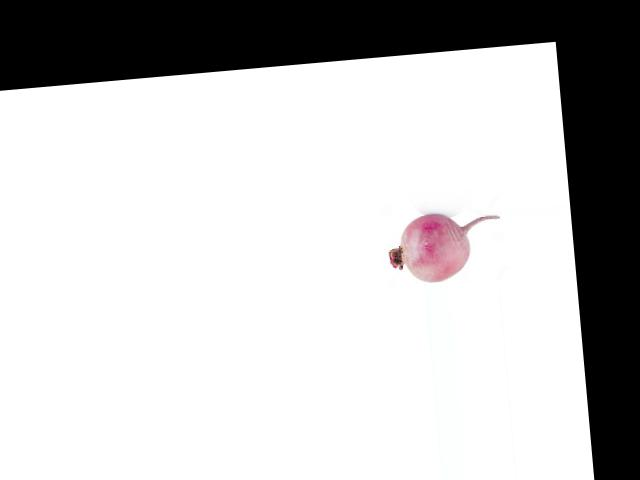beet: (386, 207, 504, 285)
